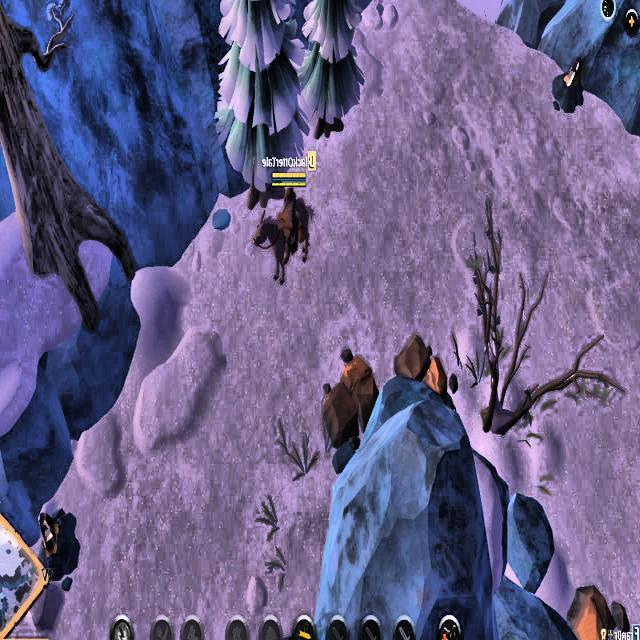copperore: (34, 499, 84, 572), (547, 58, 587, 110)
limestone: (319, 350, 382, 467), (563, 582, 634, 640), (393, 330, 451, 396)
